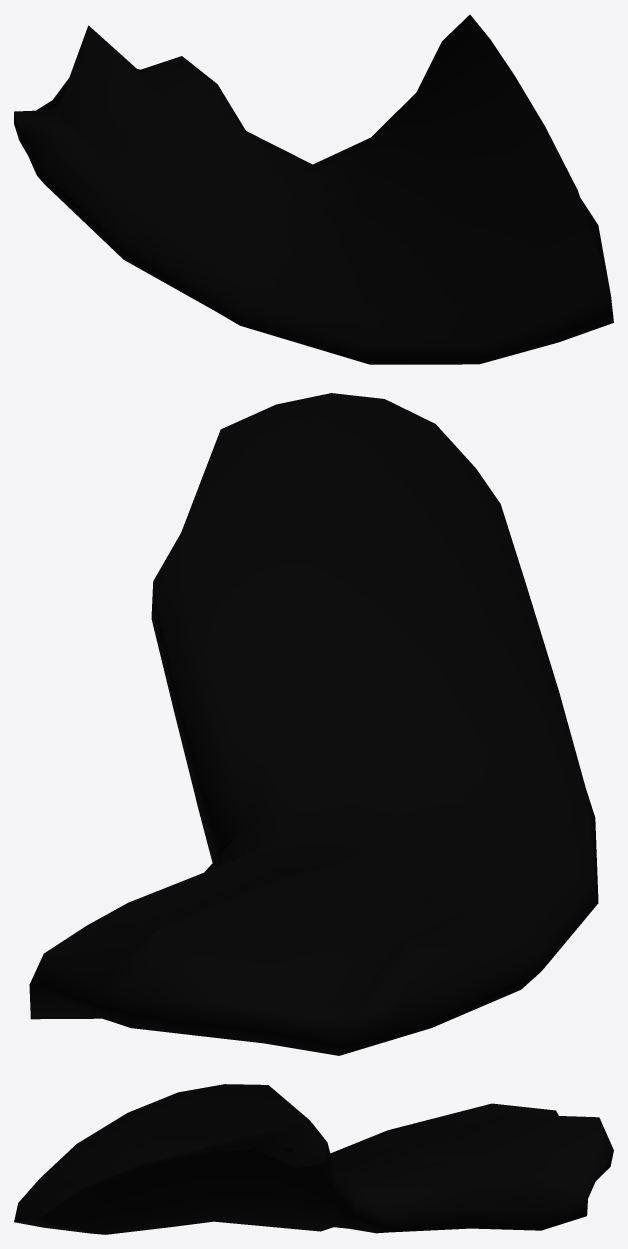
File: foca_aleta_Inf_Derecha.obj
3 renders of one model, top to bottom at view 1: azimuth 30°, elevation 25°; view 2: azimuth 150°, elevation 25°; view 3: azimuth 270°, elevation 25°, orthographic. The views are drawn at different scales.
Visible parts, largest first — view 1: sea; view 2: sea; view 3: sea.
Boxes of the visible parts, x1,y1,x2,y2 form: sea: (14, 14, 613, 364); sea: (29, 393, 598, 1055); sea: (14, 1084, 613, 1234).
Bounding box in the file's own units: 0.4411 × 0.3769 × 0.9637.
Materials: 1 (1 with a texture image).
